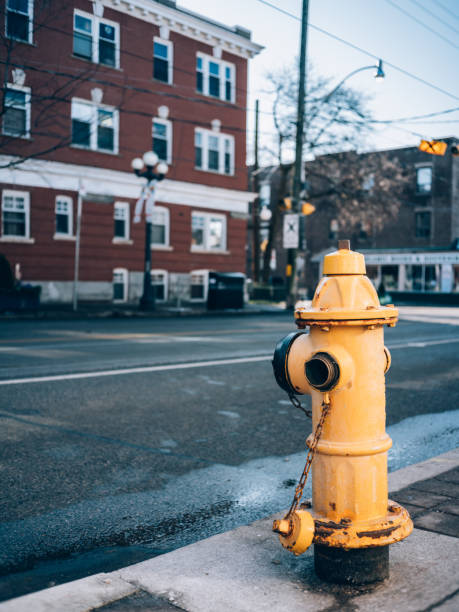firehdyrant: (268, 233, 416, 573)
